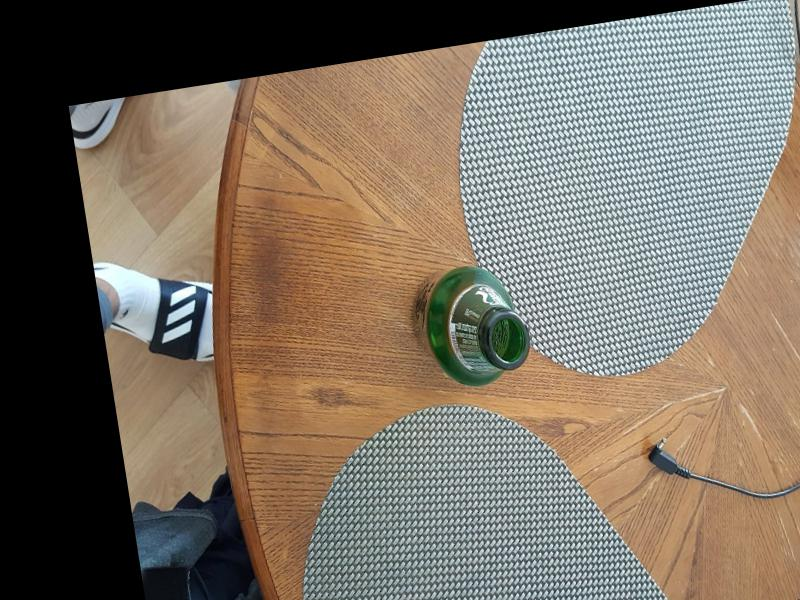Beer: (406, 258, 535, 395)
